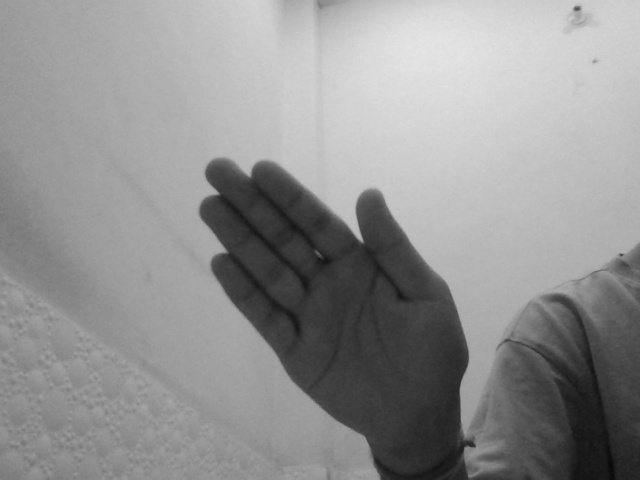Hello: (193, 152, 470, 446)
